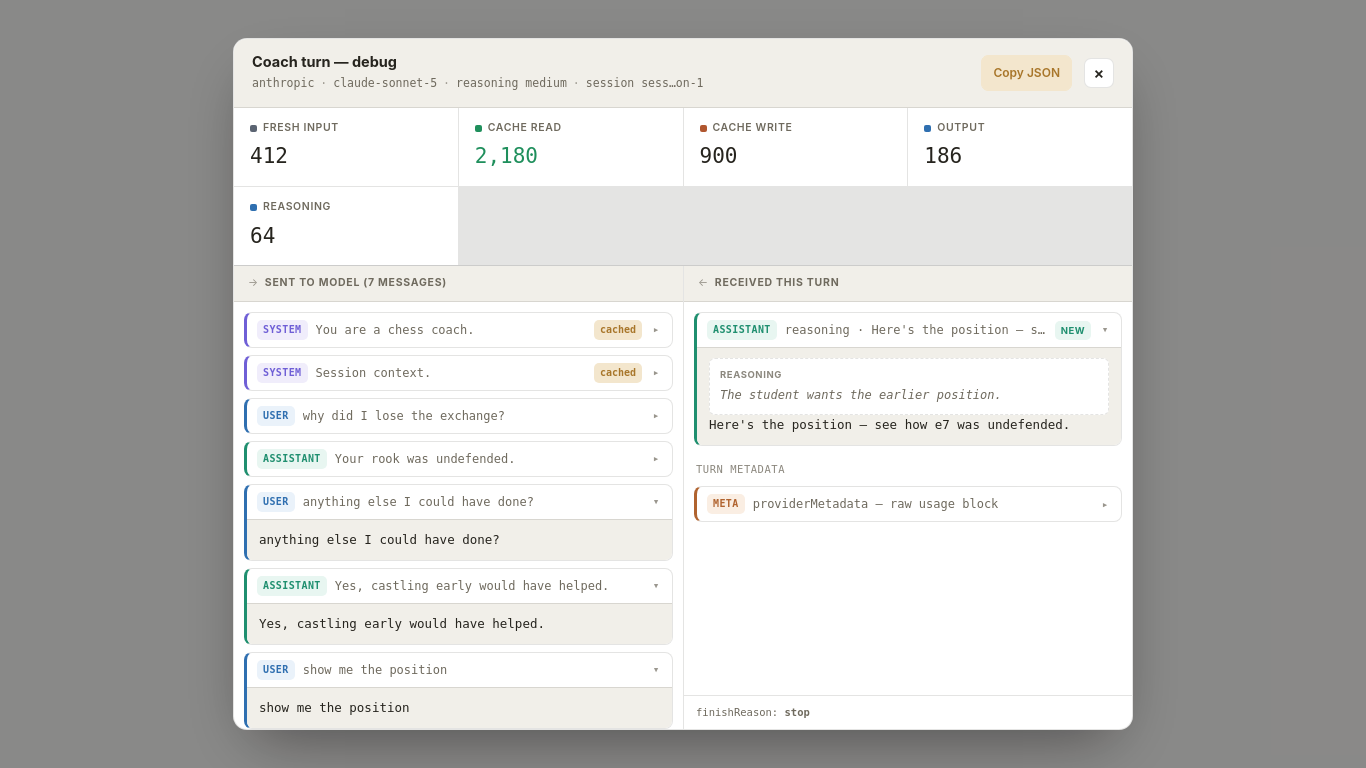
Test: DebugPanel › copy button writes the raw snapshot JSON to the clipboard
Expected: the text "anthropic" is shown, [252,76,314,90]
Click the button "Copy JSON" at (1027, 73), box [981,55,1072,91]
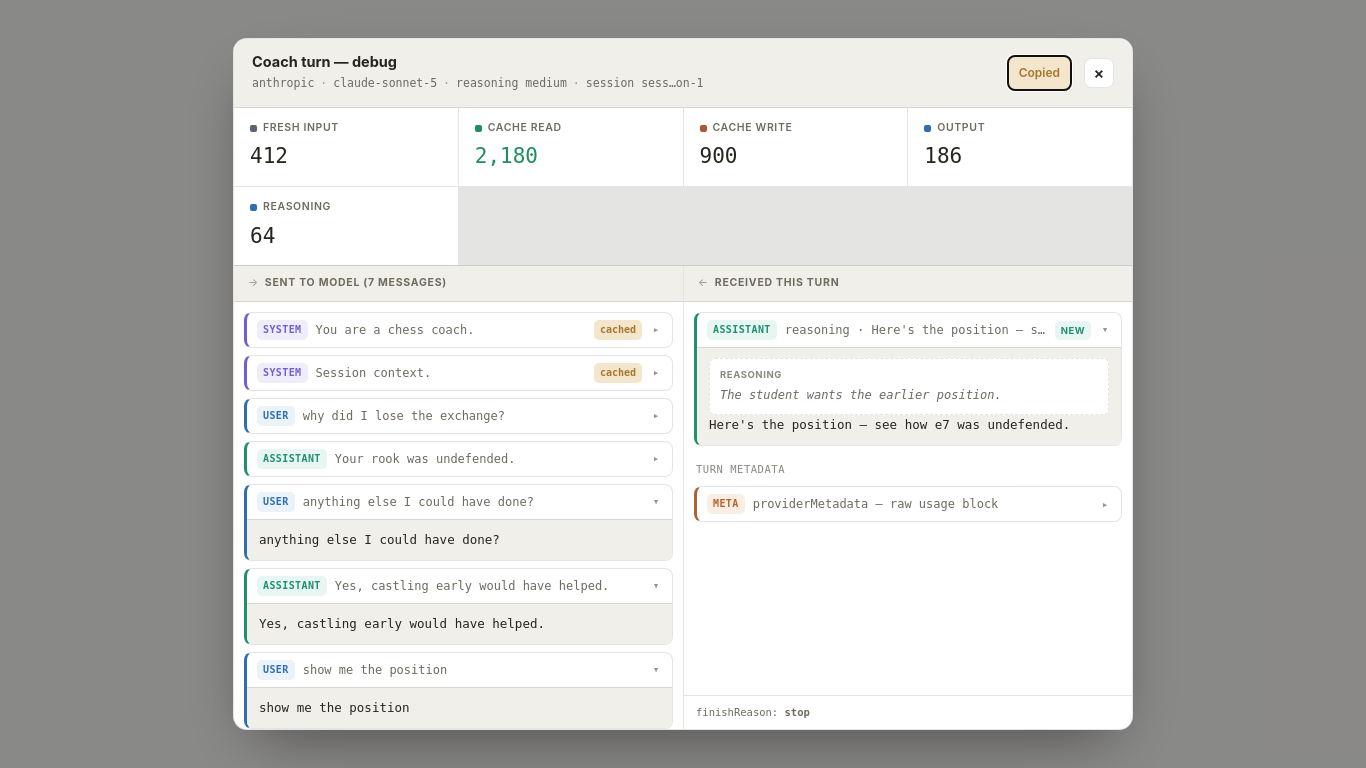
Result: the button "Copied" is shown at [1007,55,1072,91]
